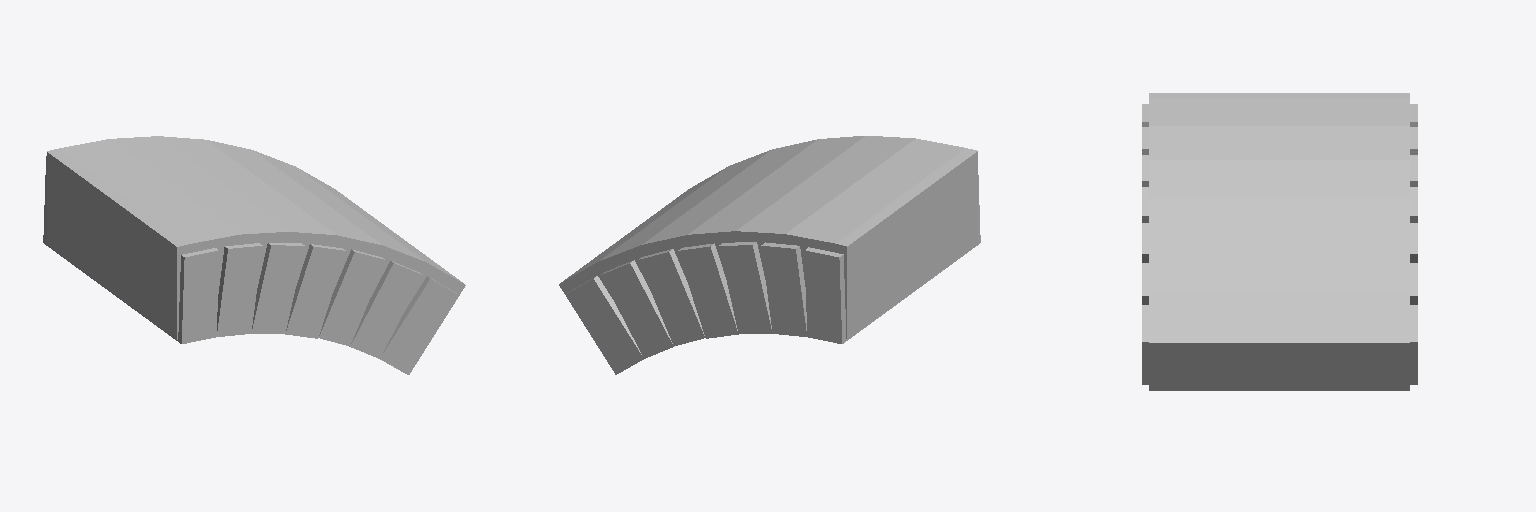
Rendered from lime_mortar_orange_clay_brick_segmental_arch_2.obj.
The picture shows the model from 3 angles: view 1: azimuth 30°, elevation 25°; view 2: azimuth 150°, elevation 25°; view 3: azimuth 270°, elevation 25°; orthographic projection.
Parts seen in each view (by area): view 1: cube.121, cube.122, cube.120, cube.119, brick.012, cube.118, brick.006, brick.011, brick.008, brick.010, brick.009, brick.007 (+2 smaller); view 2: cube.121, cube.122, cube.120, cube.119, brick.012, cube.118, brick.006, brick.011, brick.010, brick.008, brick.009, brick.007 (+2 smaller); view 3: cube.116, cube.117, cube.118, cube.119, cube.120, cube.122, cube.121, brick.006, brick.007, brick.009, brick.008.
Boxes of the visible parts, x1,y1,x2,y2 form: cube.121: [47, 149, 188, 339]; cube.122: [59, 139, 238, 293]; cube.120: [109, 136, 288, 287]; cube.119: [159, 136, 336, 285]; brick.012: [43, 156, 219, 343]; cube.118: [208, 140, 382, 291]; brick.006: [380, 276, 457, 374]; brick.011: [217, 243, 262, 336]; brick.008: [285, 244, 345, 338]; brick.010: [251, 243, 304, 333]; brick.009: [319, 249, 385, 345]; brick.007: [349, 261, 422, 358]; cube.121: [836, 148, 977, 339]; cube.122: [785, 139, 965, 286]; cube.120: [736, 136, 915, 279]; cube.119: [688, 136, 864, 276]; brick.012: [804, 175, 980, 343]; cube.118: [642, 139, 817, 279]; brick.006: [566, 276, 643, 374]; brick.011: [761, 242, 806, 336]; brick.010: [719, 242, 772, 333]; brick.008: [678, 243, 738, 338]; brick.009: [638, 249, 704, 345]; brick.007: [601, 260, 674, 358]; cube.116: [1149, 291, 1409, 390]; cube.117: [1149, 243, 1409, 290]; cube.118: [1149, 199, 1409, 242]; cube.119: [1149, 160, 1409, 198]; cube.120: [1149, 126, 1409, 159]; cube.122: [1149, 99, 1409, 125]; cube.121: [1149, 93, 1409, 98]; brick.006: [1142, 305, 1417, 384]; brick.007: [1142, 263, 1417, 304]; brick.009: [1142, 223, 1417, 262]; brick.008: [1142, 187, 1417, 222].
Bounding box in the file's own units: 1.29 × 0.7873 × 1.07.